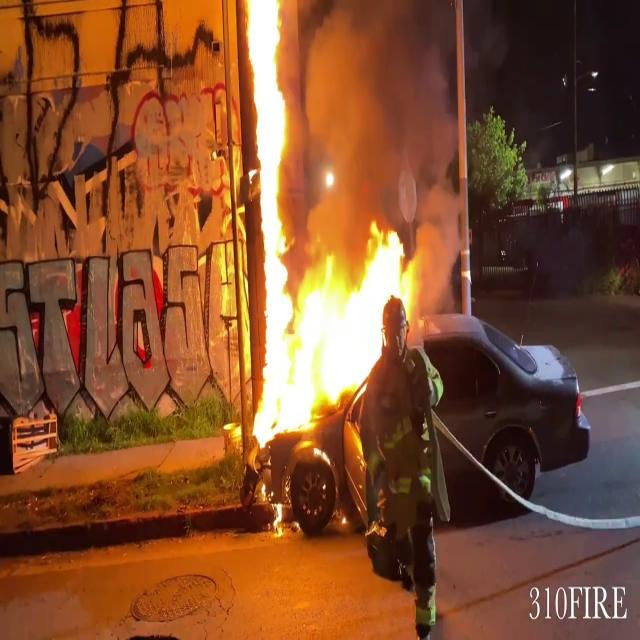Fire: (242, 226, 425, 437), (242, 0, 294, 439)
Smoke: (292, 0, 481, 228)
